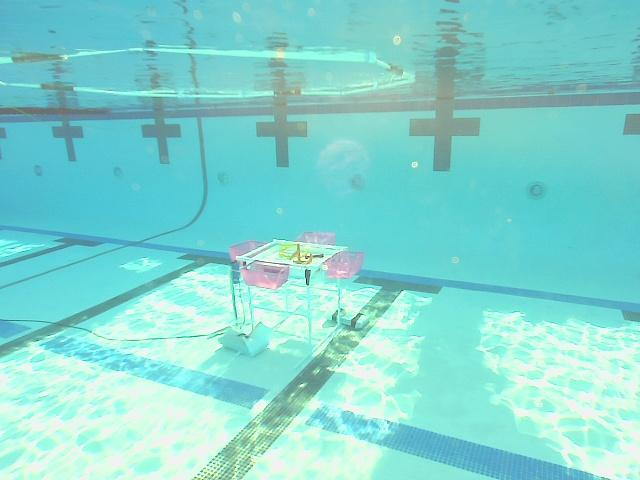table: (218, 232, 369, 370)
